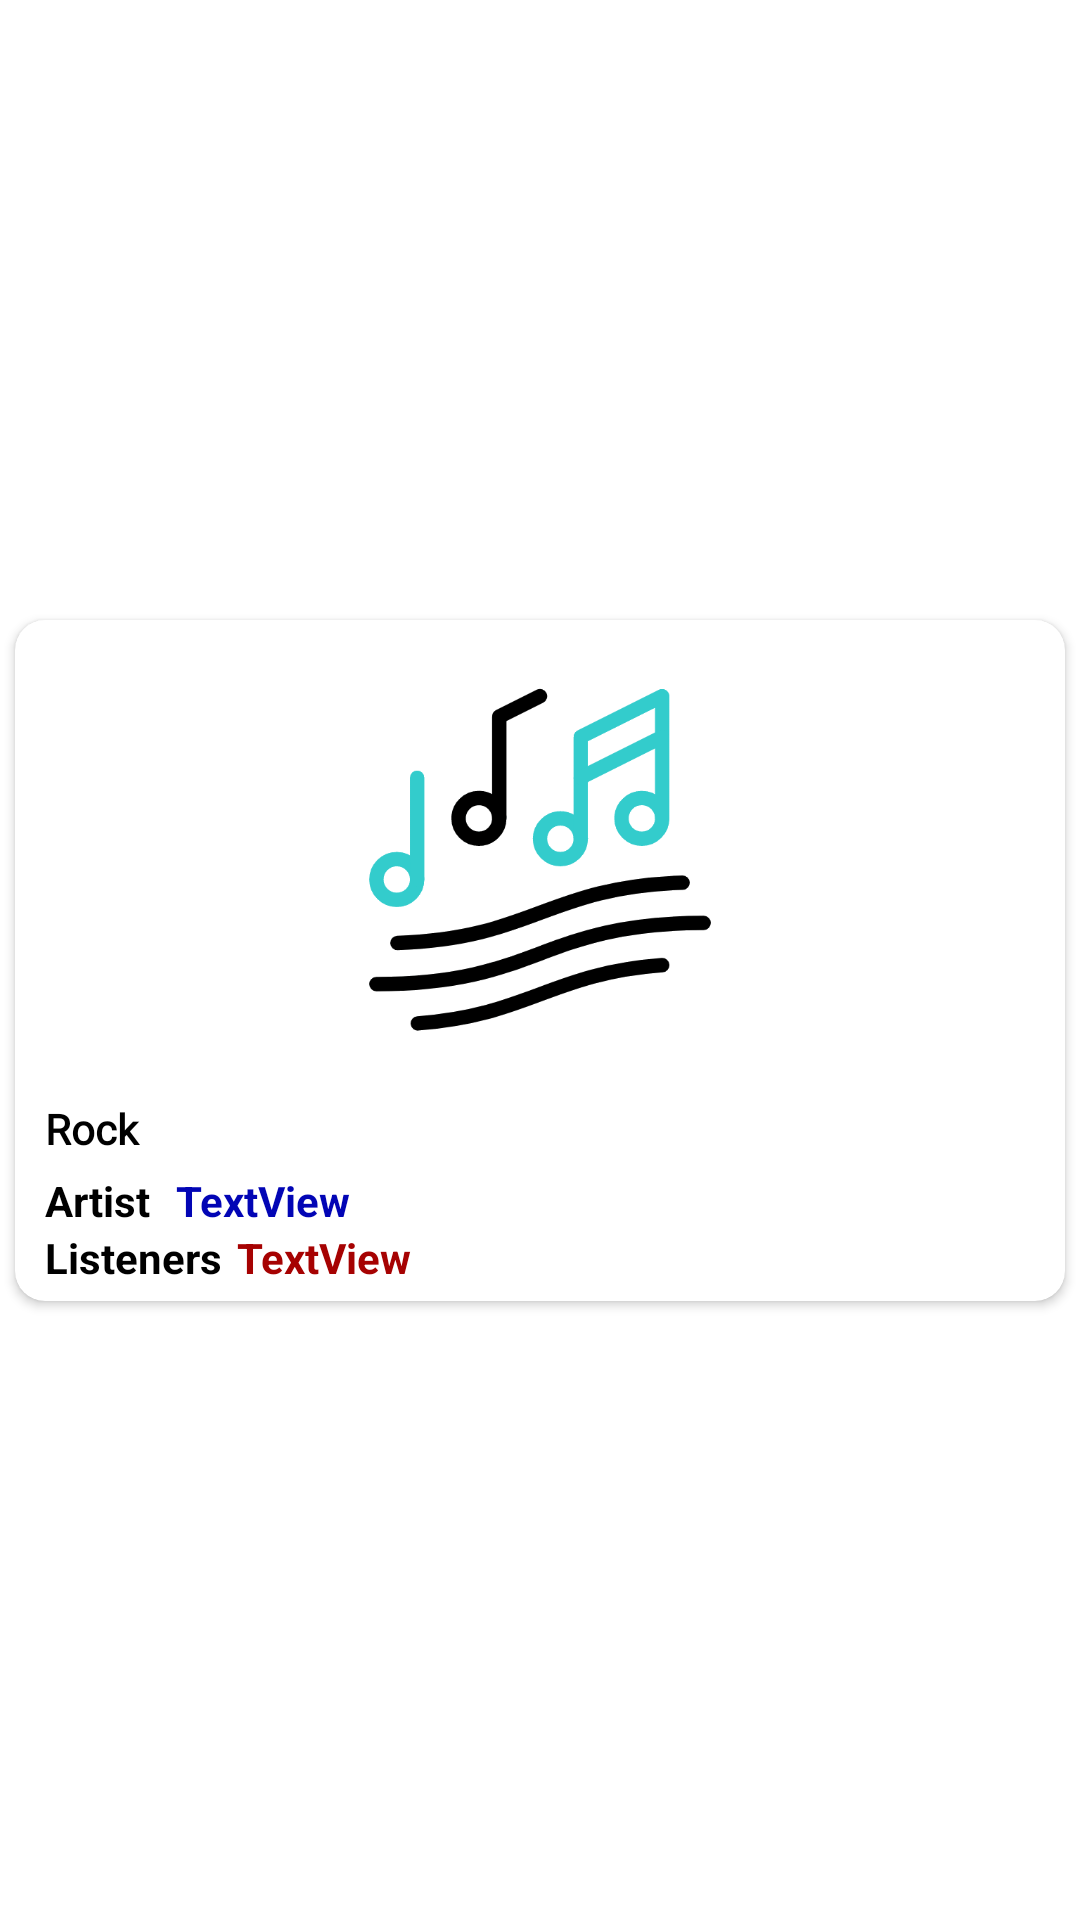

Named icons in this screenshot (1080px x 1920px) and their bounding boxes, (x1, y1, x2, y2):
genere: (369, 689, 711, 1031)
